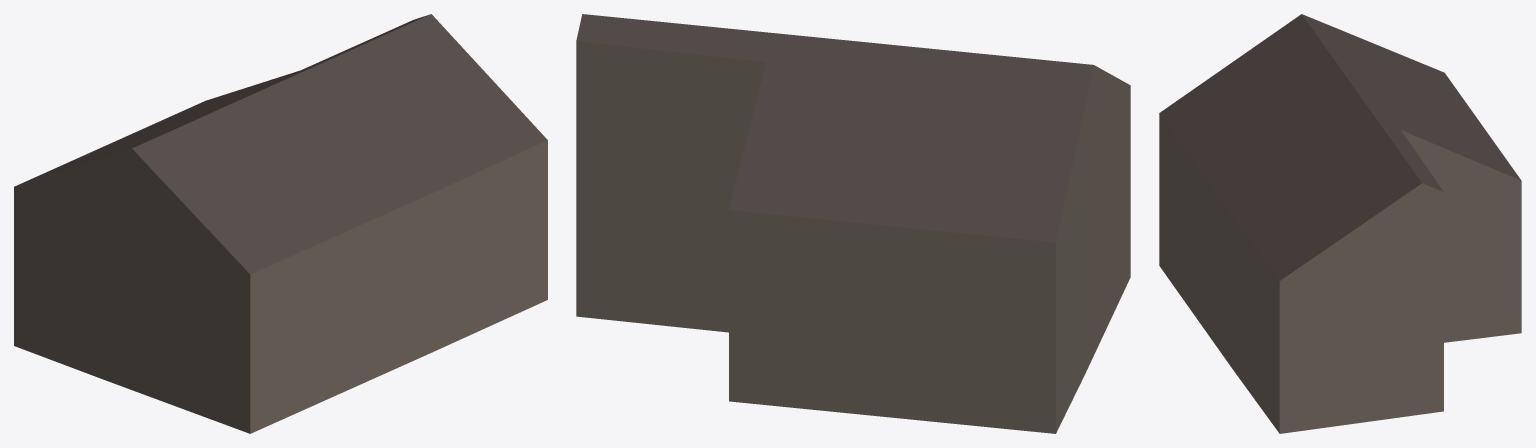
3 views of the same model, side by side, from view 1: azimuth 30°, elevation 25°; view 2: azimuth 150°, elevation 25°; view 3: azimuth 270°, elevation 25° (orthographic). The views are drawn at different scales.
Parts seen in each view (by area): view 1: HP-w1198645054; view 2: HP-w1198645054; view 3: HP-w1198645054.
Boxes of the visible parts, <box> form: HP-w1198645054: <box>14,14,547,433</box>; HP-w1198645054: <box>576,14,1130,433</box>; HP-w1198645054: <box>1159,14,1521,433</box>.
Bounding box in the file's own units: 17.65 × 9.11 × 12.94.
